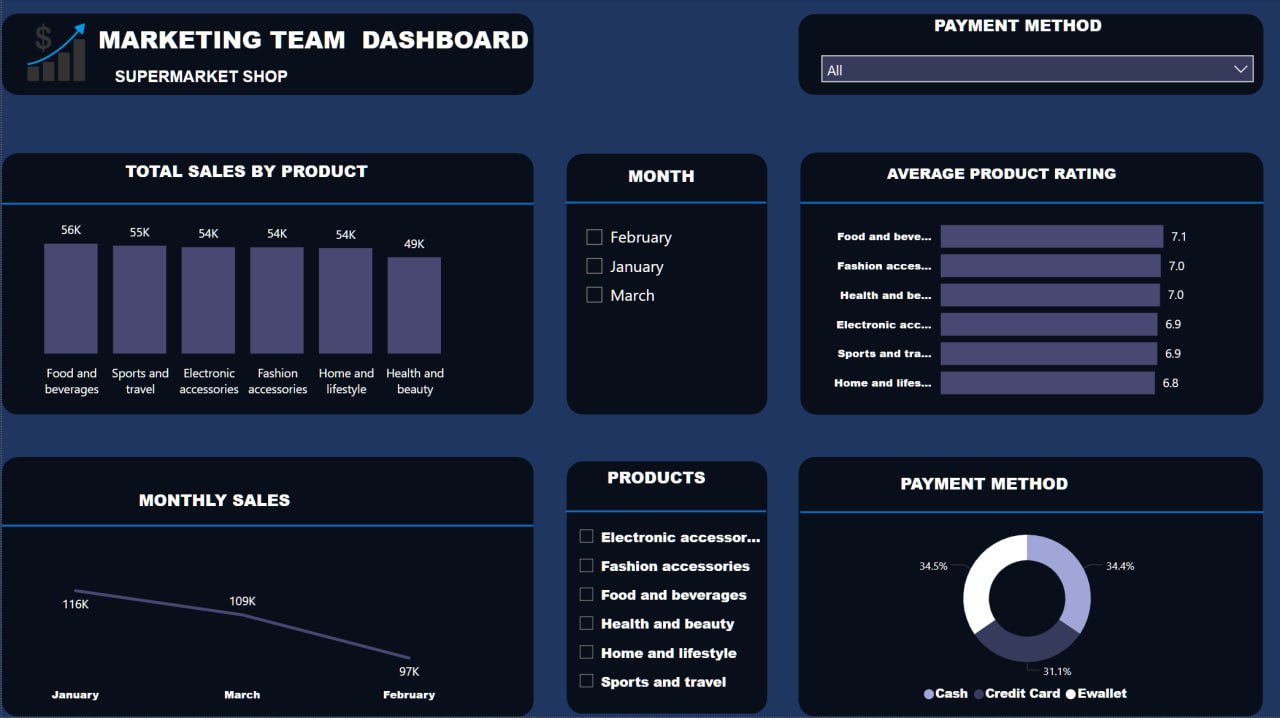

The page's visual inventory and layout, read from the dashboard file:
{"tool":"powerbi","page":{"name":"MARKETING TEAM","canvas":[1280,720],"ordinal":2},"visuals":[{"type":"shape","box":[0,14.7,532.6,81.7],"z":0},{"type":"shape","box":[0,154.8,532.6,262.3],"z":1000},{"type":"shape","box":[798,15.4,465.7,81.1],"z":2000},{"type":"shape","box":[0,459.5,532.6,260.5],"z":4000},{"type":"shape","box":[565.7,155.5,200.9,261.5],"z":5000},{"type":"shape","box":[799.7,154.2,463.8,262.9],"z":10000},{"type":"shape","box":[798.3,459.7,465.2,260.1],"z":14000},{"type":"shape","box":[0,136.4,532.6,138.2],"z":15000},{"type":"shape","box":[799.7,445.9,463.8,137.6],"z":16000},{"type":"shape","box":[799.9,135.2,463.8,138.8],"z":17000},{"type":"textbox","box":[91.5,19,449.7,45.5],"z":20000},{"type":"textbox","box":[108.1,64.5,243.3,31.9],"z":21000},{"type":"image","box":[0,19,108.1,68.8],"z":22000},{"type":"slicer","fields":{"Values":["supermarket_sales - Sheet2.Month"]},"box":[572.6,218.8,184.4,195.4],"z":25000},{"type":"shape","box":[564.3,172,200.9,64.7],"z":26000},{"type":"textbox","box":[622.1,161,139,44],"z":29000},{"type":"clusteredColumnChart","fields":{"Y":["Sum(supermarket_sales - Sheet2.Total ($))"],"Category":["supermarket_sales - Sheet2.Product line"]},"box":[0,210,474,196.7],"z":30000},{"type":"textbox","box":[118.7,156,286.7,54],"z":31000},{"type":"barChart","fields":{"Category":["supermarket_sales - Sheet2.Product line"],"Y":["supermarket_sales - Sheet2.Average Rating"]},"box":[816.2,202.3,443.2,212],"z":32000},{"type":"textbox","box":[881.3,160,262.7,42.7],"z":33000},{"type":"shape","box":[0,459.5,532.6,137.6],"z":34000},{"type":"lineChart","fields":{"Category":["supermarket_sales - Sheet2.Month"],"Y":["Sum(supermarket_sales - Sheet2.Total ($))"]},"box":[2,566.7,478,149.3],"z":35000},{"type":"textbox","box":[55.3,486,315.3,38.7],"z":36000},{"type":"donutChart","fields":{"Y":["supermarket_sales - Sheet2.Ewallet","supermarket_sales - Sheet2.Credit Card","supermarket_sales - Sheet2.Ewallet1"]},"box":[799.7,514.8,454.2,200.9],"z":39000},{"type":"textbox","box":[895.3,469.3,216.7,33.3],"z":40000},{"type":"shape","box":[565.7,463.8,200.9,253.2],"z":46000},{"type":"shape","box":[564.3,481.7,200.9,64.7],"z":47000},{"type":"slicer","fields":{"Values":["supermarket_sales - Sheet2.Product line"]},"box":[566,520,200,191.3],"z":48000},{"type":"textbox","box":[601.3,463.3,135.3,45.3],"z":49000},{"type":"slicer","fields":{"Values":["supermarket_sales - Sheet2.Payment"]},"box":[810.7,46.8,452.8,49.5],"z":53000},{"type":"textbox","box":[928.7,10,346.7,58.7],"z":54000}]}

Visuals, with their boxes in screenshot pixels (x1, y1, x2, y2), scaled from the page's 1280x720 canvas onto the 1280x718 screenshot:
shape: Rect(0, 15, 533, 96)
shape: Rect(0, 154, 533, 416)
shape: Rect(798, 15, 1264, 96)
shape: Rect(0, 458, 533, 717)
shape: Rect(566, 155, 767, 416)
shape: Rect(800, 154, 1264, 416)
shape: Rect(798, 458, 1264, 717)
shape: Rect(0, 136, 533, 274)
shape: Rect(800, 445, 1264, 582)
shape: Rect(800, 135, 1264, 273)
textbox: Rect(92, 19, 541, 64)
textbox: Rect(108, 64, 351, 96)
image: Rect(0, 19, 108, 88)
slicer - supermarket_sales - Sheet2.Month: Rect(573, 218, 757, 413)
shape: Rect(564, 172, 765, 236)
textbox: Rect(622, 161, 761, 204)
clusteredColumnChart - Sum(supermarket_sales - Sheet2.Total ($)) x supermarket_sales - Sheet2.Product line: Rect(0, 209, 474, 406)
textbox: Rect(119, 156, 405, 209)
barChart - supermarket_sales - Sheet2.Product line x supermarket_sales - Sheet2.Average Rating: Rect(816, 202, 1259, 413)
textbox: Rect(881, 160, 1144, 202)
shape: Rect(0, 458, 533, 595)
lineChart - supermarket_sales - Sheet2.Month x Sum(supermarket_sales - Sheet2.Total ($)): Rect(2, 565, 480, 714)
textbox: Rect(55, 485, 371, 523)
donutChart - supermarket_sales - Sheet2.Ewallet x supermarket_sales - Sheet2.Credit Card: Rect(800, 513, 1254, 714)
textbox: Rect(895, 468, 1112, 501)
shape: Rect(566, 463, 767, 715)
shape: Rect(564, 480, 765, 545)
slicer - supermarket_sales - Sheet2.Product line: Rect(566, 519, 766, 709)
textbox: Rect(601, 462, 737, 507)
slicer - supermarket_sales - Sheet2.Payment: Rect(811, 47, 1264, 96)
textbox: Rect(929, 10, 1275, 69)
